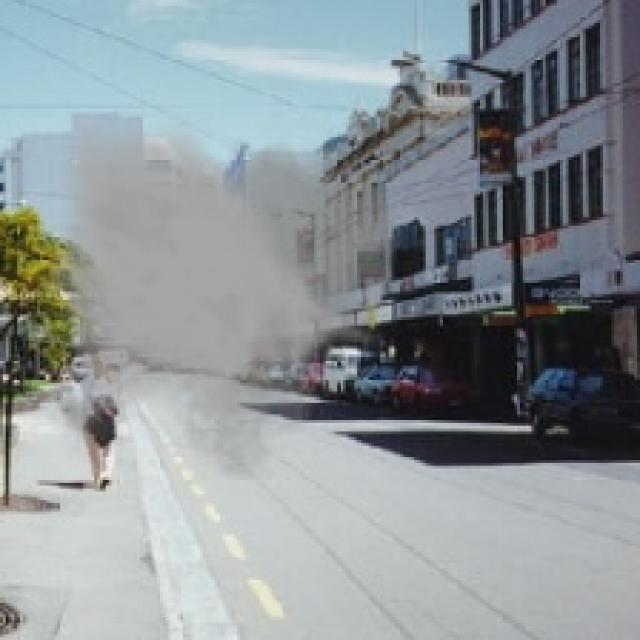smoke: (43, 111, 403, 480)
